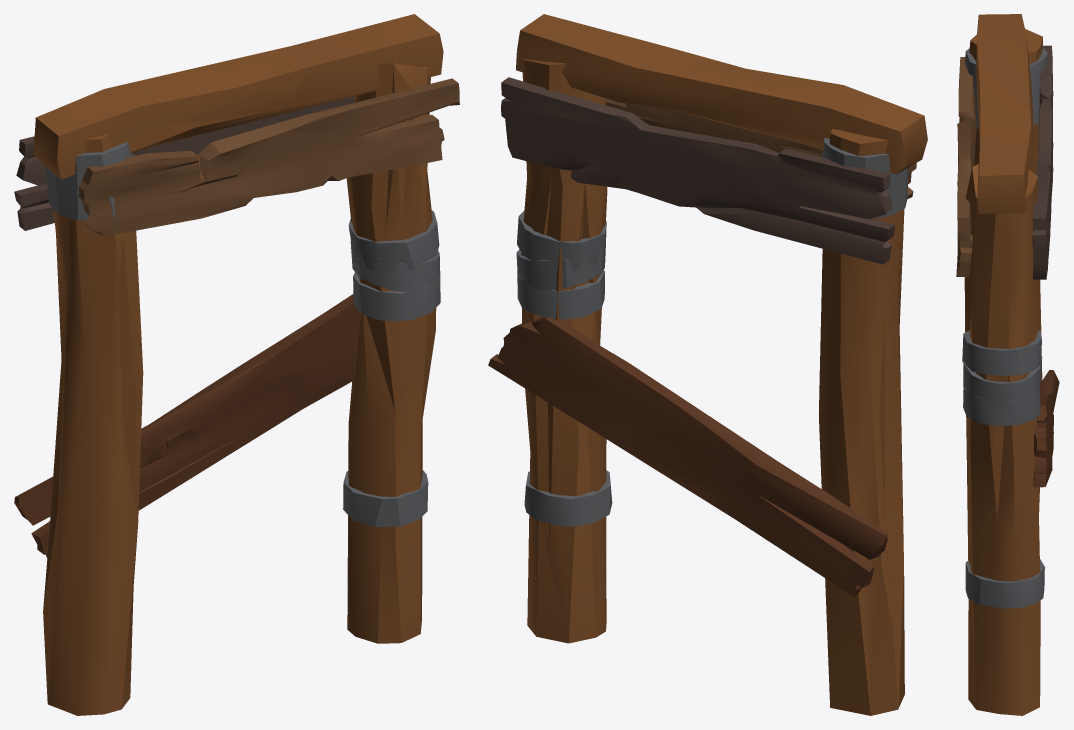
The model's file is Rough Wooden Bridge_support 2.fbx.
The picture shows the model from 3 angles, left to right: view 1: azimuth 30°, elevation 25°; view 2: azimuth 150°, elevation 25°; view 3: azimuth 270°, elevation 25°; orthographic projection. The views are drawn at different scales.
Parts seen in each view (by area): view 1: Rough Wooden Bridge_baked; view 2: Rough Wooden Bridge_baked; view 3: Rough Wooden Bridge_baked.
Boxes of the visible parts, x1,y1,x2,y2 form: Rough Wooden Bridge_baked: (14,14,459,715); Rough Wooden Bridge_baked: (488,14,927,715); Rough Wooden Bridge_baked: (956,14,1059,715).
Size of the model in its own units: 275 by 387 by 66.47.
